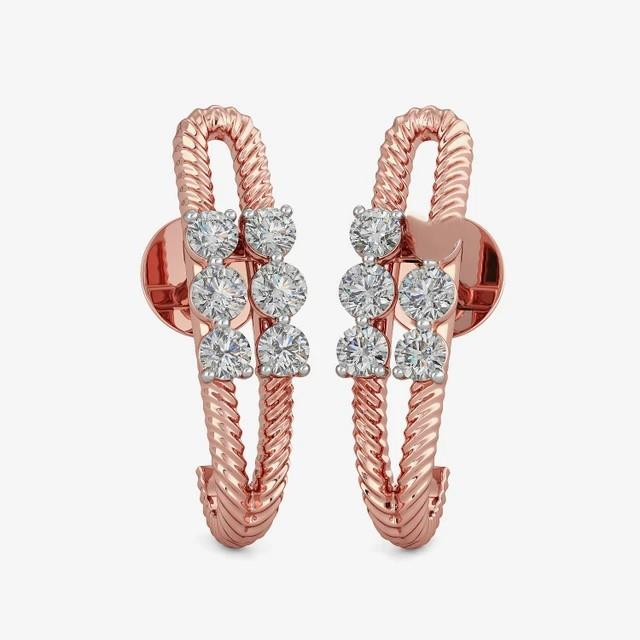missing gem: (414, 216, 460, 258), (456, 217, 466, 227), (413, 217, 420, 226)
